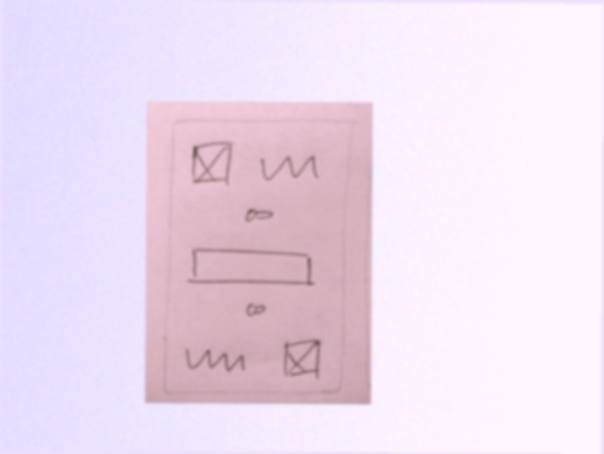image: (190, 136, 235, 192), (277, 337, 331, 382)
switch: (239, 203, 280, 230), (242, 300, 269, 319)
text: (255, 150, 323, 184), (180, 344, 250, 377)
text_input: (184, 244, 319, 288)
